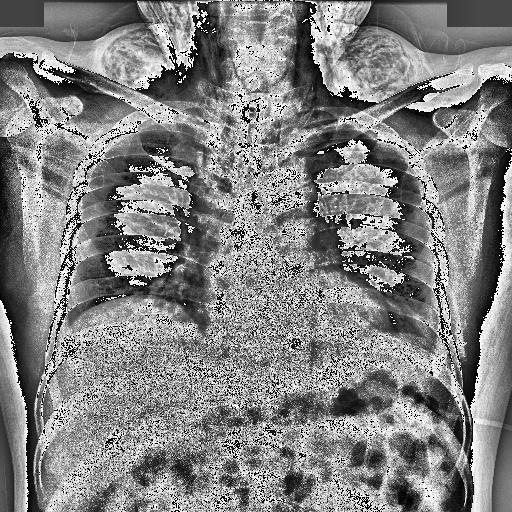0- Aortic enlargement: (262, 161, 320, 243)
3- Cardiomegaly: (193, 276, 391, 348), (200, 274, 394, 342)
7- Lung Opacity: (190, 131, 228, 252)
9- Other lesion: (2, 132, 477, 233), (58, 2, 506, 94), (58, 14, 478, 104), (8, 124, 204, 228), (314, 142, 501, 224), (296, 4, 412, 106), (112, 2, 222, 98), (398, 138, 506, 201), (5, 131, 90, 205)
